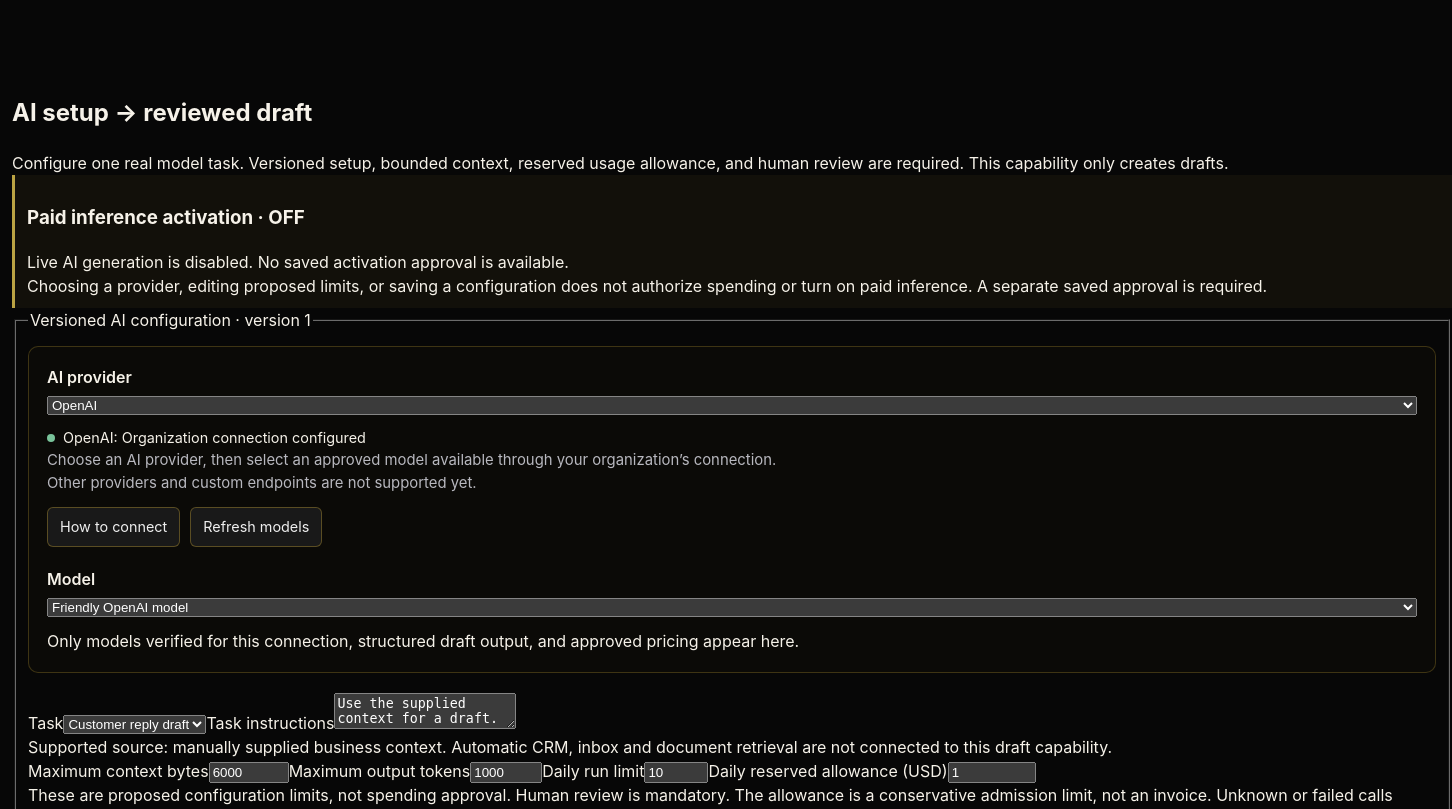
Test: superseded model discovery cannot replace newer provider models
(page scrolled)
Check: the text "Versioned AI configuration · version 1" is shown, box 28,308 -> 313,332
Select "Anthropic Claude" in the dropdown labelled "AI provider": [732, 405] box 47,396 -> 1417,415
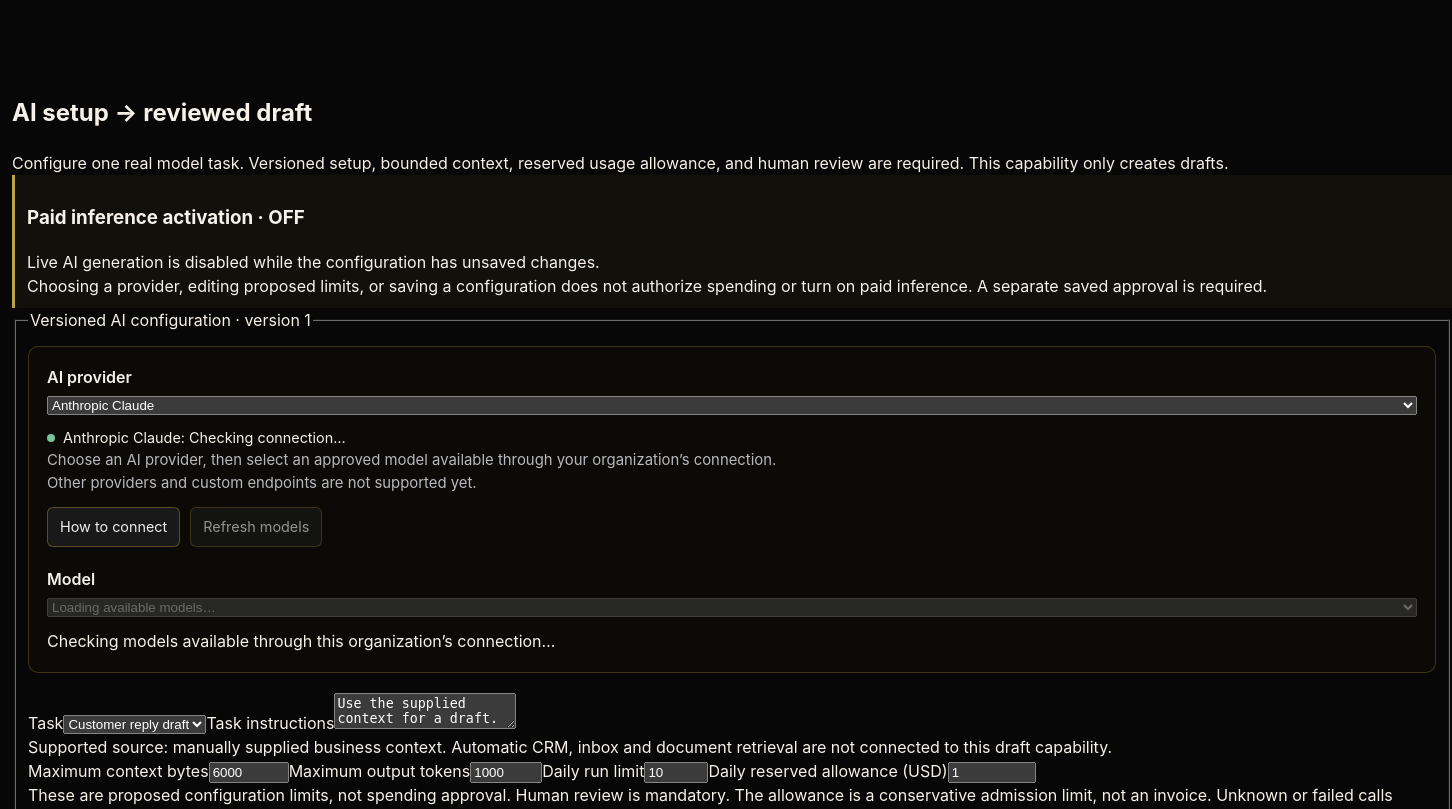
Select "Google Gemini" in the dropdown labelled "AI provider": [732, 405] box 47,396 -> 1417,415
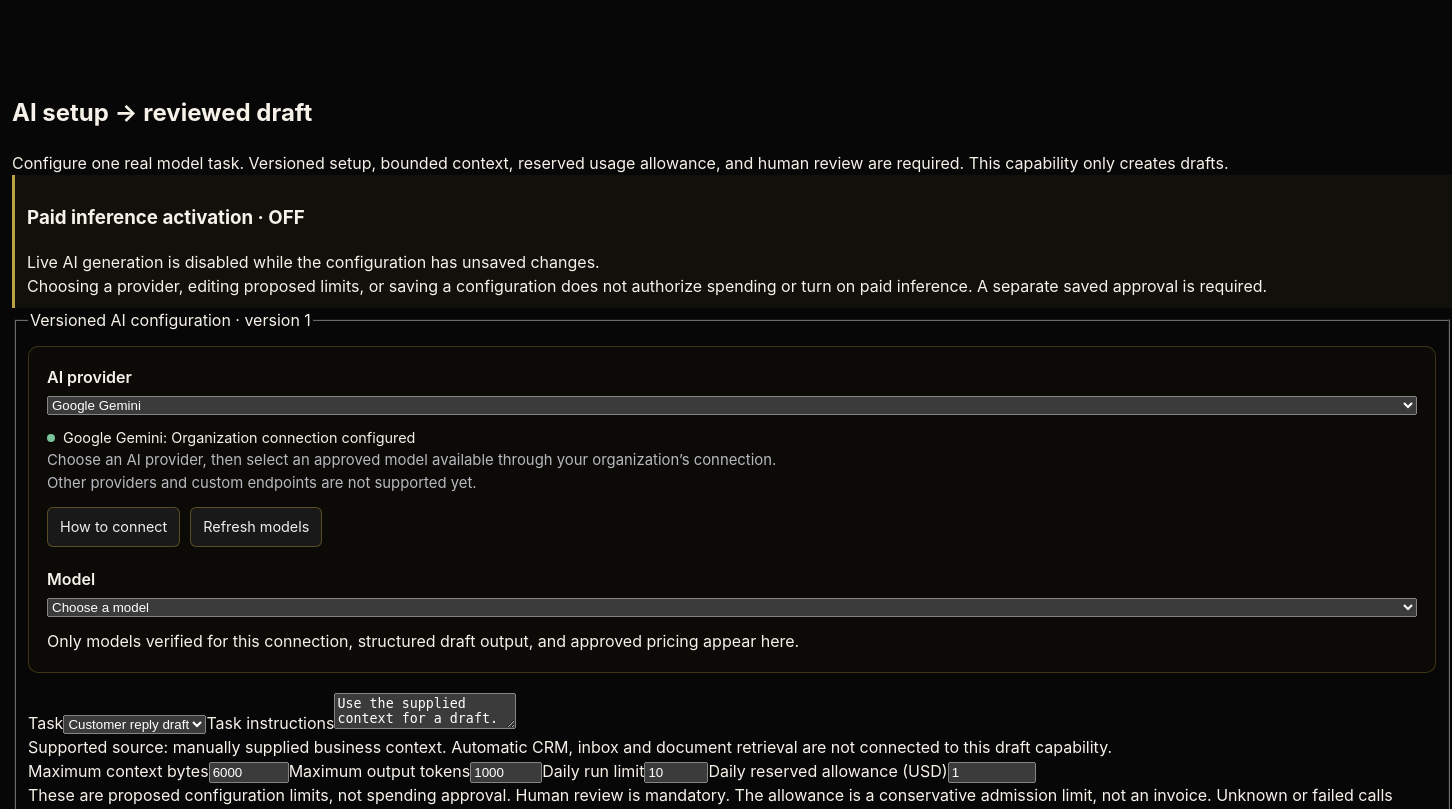
Check: the dropdown labelled "Model" is enabled, box 47,598 -> 1417,617
